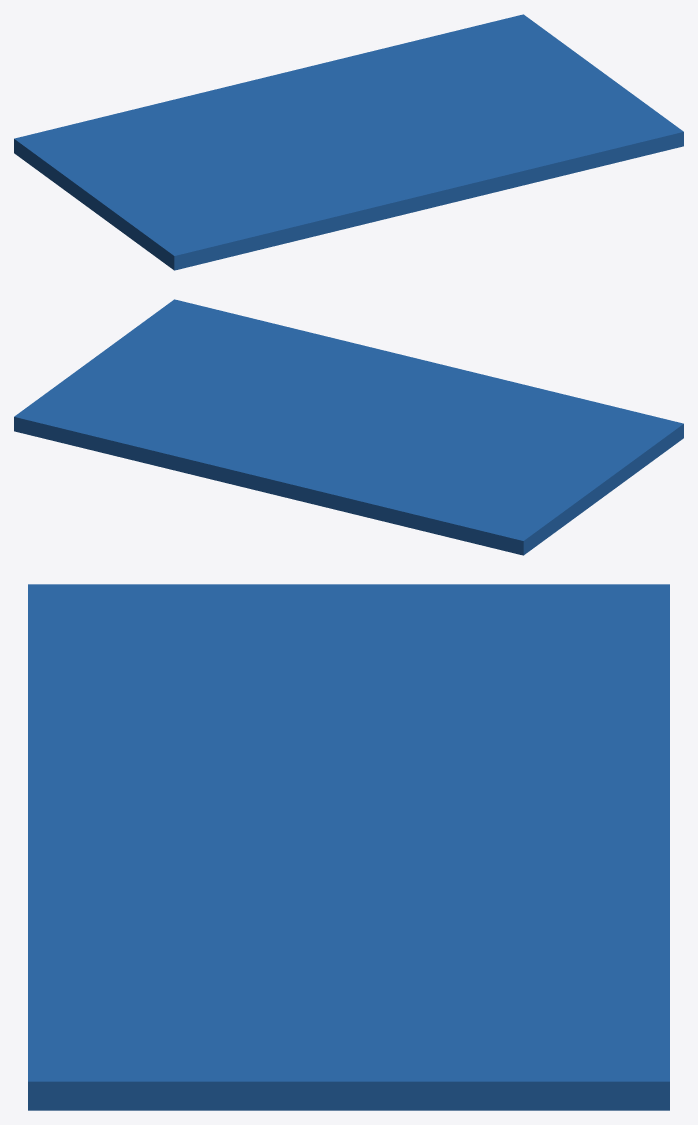
The model's file is StretchMat.fbx.
The picture shows the model from 3 angles, top to bottom: view 1: azimuth 30°, elevation 25°; view 2: azimuth 150°, elevation 25°; view 3: azimuth 270°, elevation 25°; orthographic projection. The views are drawn at different scales.
Visible parts, largest first — view 1: StretchMat_Mesh; view 2: StretchMat_Mesh; view 3: StretchMat_Mesh.
Part boxes in pixels (bbox=[...]): StretchMat_Mesh: bbox=[14, 14, 683, 270]; StretchMat_Mesh: bbox=[14, 299, 683, 555]; StretchMat_Mesh: bbox=[28, 584, 669, 1110].
Size of the model in its own units: 2.2 by 0.06 by 1.2.
Materials: 1 (1 with a texture image).
